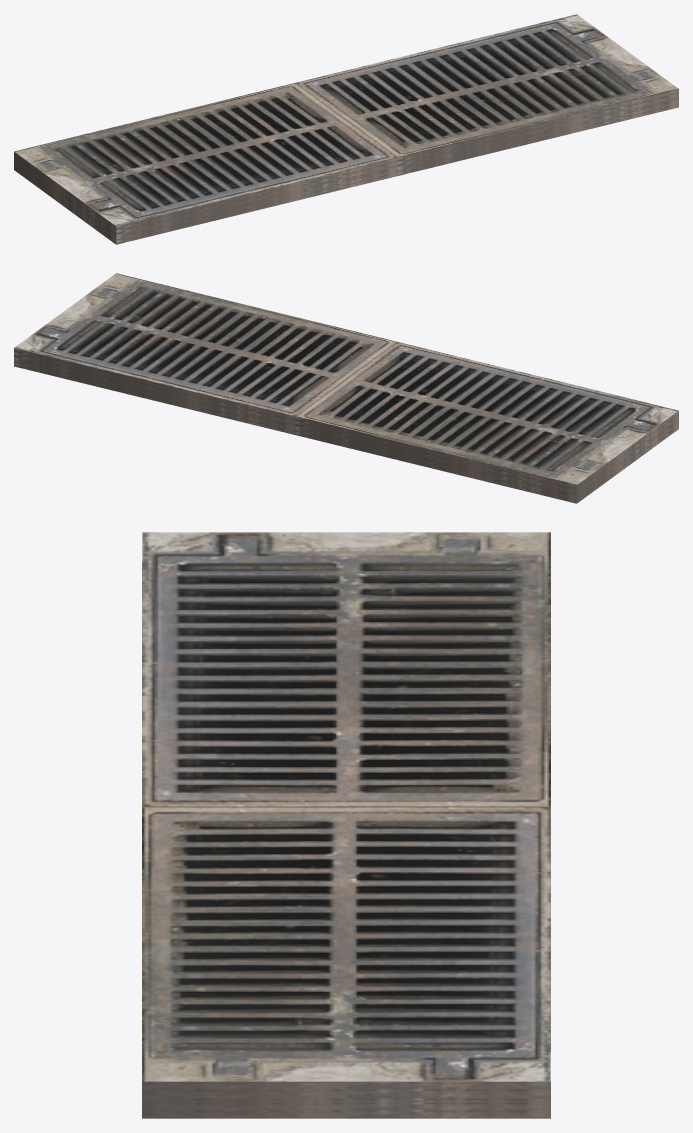
The model's file is yushuibizi.gltf.
The picture shows the model from 3 angles, top to bottom: view 1: azimuth 30°, elevation 25°; view 2: azimuth 150°, elevation 25°; view 3: azimuth 270°, elevation 25°; orthographic projection. The views are drawn at different scales.
Parts seen in each view (by area): view 1: xiashui01; view 2: xiashui01; view 3: xiashui01.
Part boxes in pixels (x1,y1,x2,y2): xiashui01: [14, 14, 678, 244]; xiashui01: [14, 273, 678, 503]; xiashui01: [142, 532, 550, 1118].
Bounding box in the file's own units: 1.27 × 0.04 × 0.4.
1 material, 1 textured.
